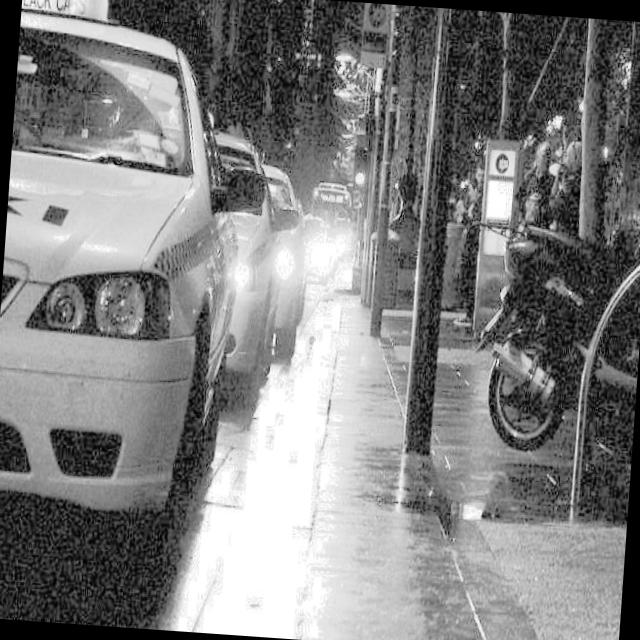Car: (0, 0, 244, 578), (168, 100, 292, 404), (237, 147, 326, 366)
Motorcycle: (475, 195, 640, 442)
